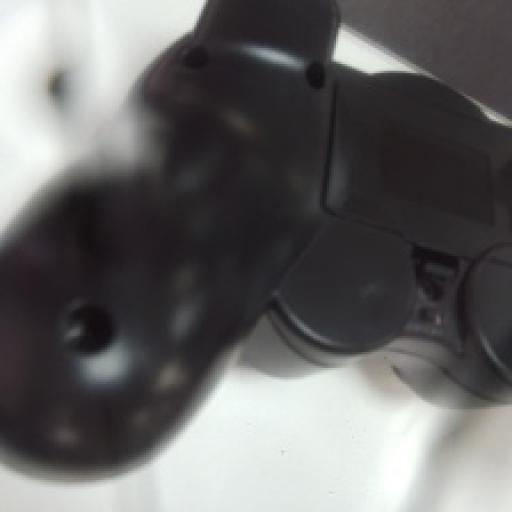game pad: (0, 0, 510, 478)
